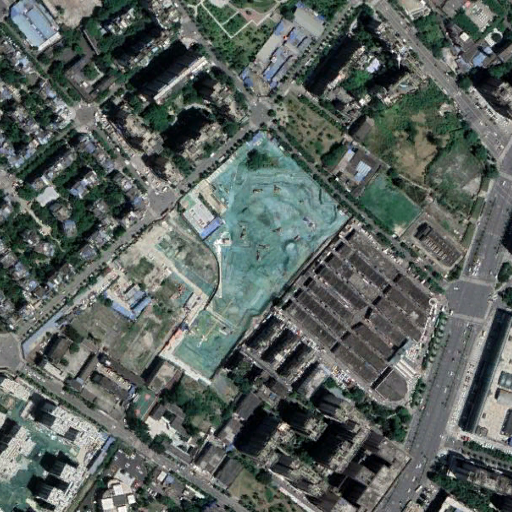cw: (165, 128, 351, 384)
